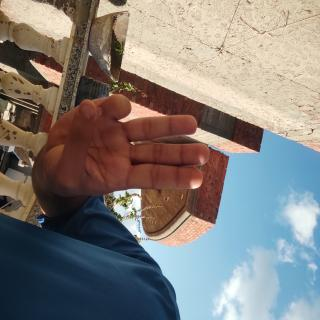THA: (60, 147, 175, 320)
